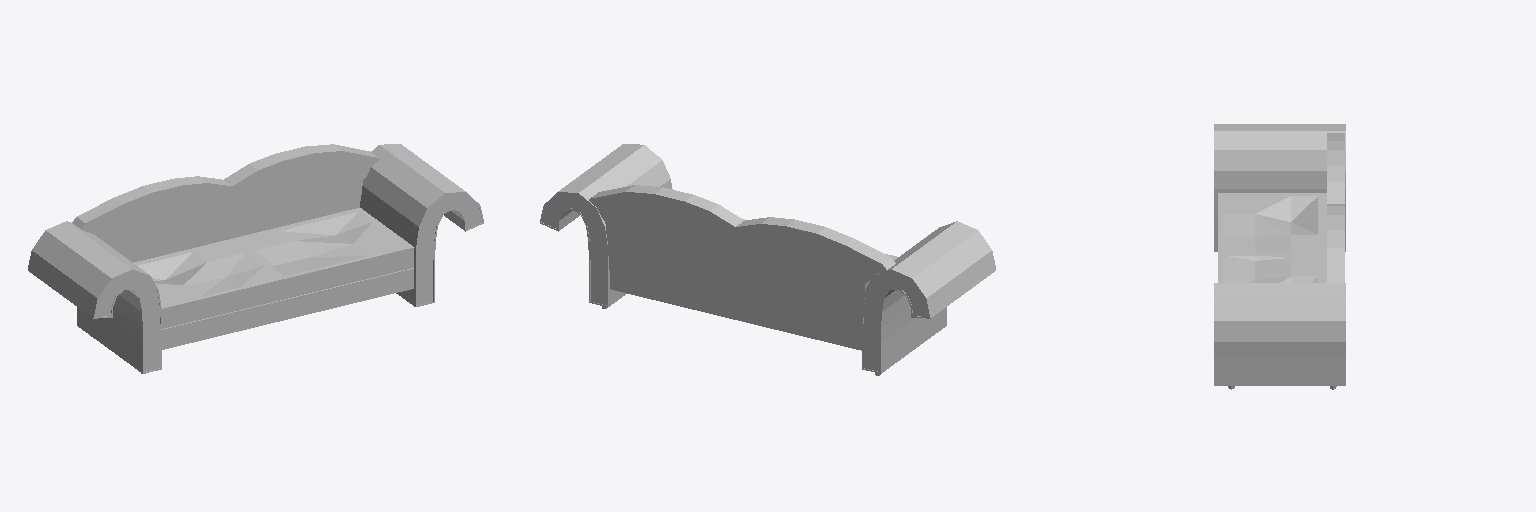
The model's file is sofa.obj.
3 views of the same model, side by side, from view 1: azimuth 30°, elevation 25°; view 2: azimuth 150°, elevation 25°; view 3: azimuth 270°, elevation 25° (orthographic).
Parts seen in each view (by area): view 1: sofa pCube6, sofa pCube5, pCube4 sofa, sofa pCube3, sofa pCube1, sofa pCube7, sofa pCube2; view 2: pCube4 sofa, sofa pCube5, sofa pCube6, sofa pCube1, sofa pCube2; view 3: sofa pCube1, sofa pCube6, sofa pCube7, sofa pCube3, sofa pCube5, pCube4 sofa.
Part boxes in pixels (x1,y1,x2,y2): sofa pCube6: (28,221,161,373); sofa pCube5: (224,144,378,237); pCube4 sofa: (72,176,232,262); sofa pCube3: (233,208,414,297); sofa pCube1: (360,144,483,306); sofa pCube7: (134,239,287,328); sofa pCube2: (162,268,413,349); pCube4 sofa: (735,217,895,330); sofa pCube5: (589,185,744,299); sofa pCube6: (862,221,995,373); sofa pCube1: (540,144,672,306); sofa pCube2: (610,270,861,350); sofa pCube1: (1214,283,1345,385); sofa pCube6: (1214,124,1345,251); sofa pCube7: (1218,193,1326,255); sofa pCube3: (1218,255,1326,282); sofa pCube5: (1327,204,1344,282); pCube4 sofa: (1327,133,1344,203).
Size of the model in its own units: 20.19 by 6.49 by 5.9.